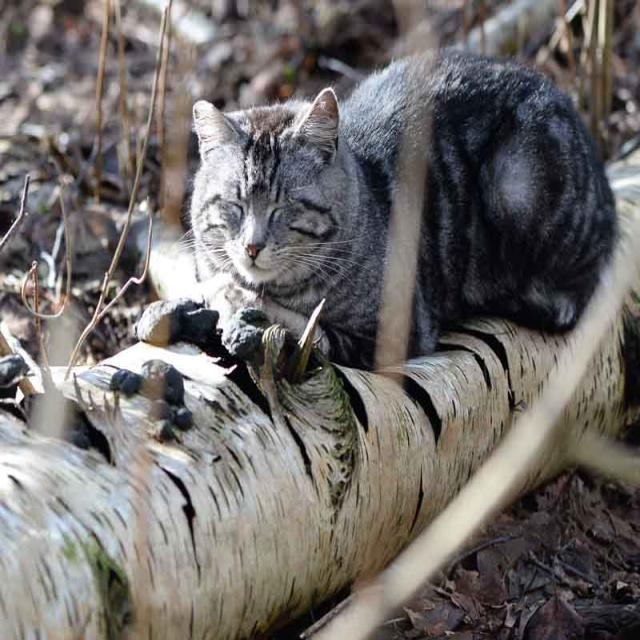cat: (191, 54, 616, 368)
